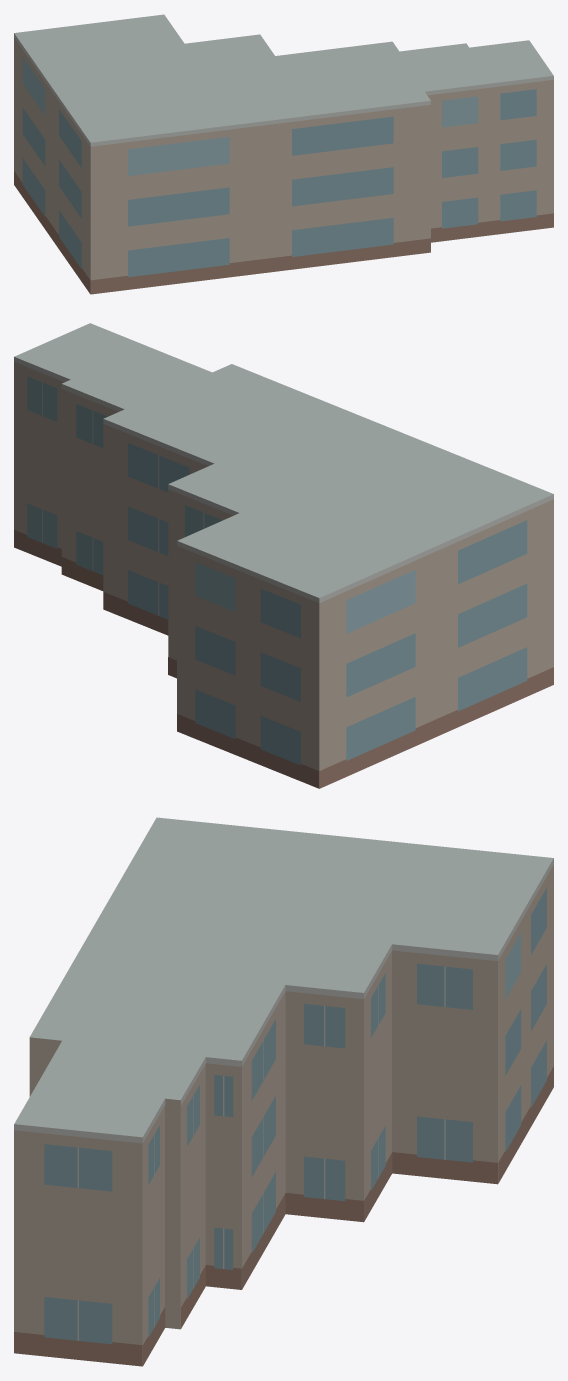
Rendered from survey-upis-32813235.glb.
3 views of the same model, one above another, from view 1: azimuth 30°, elevation 25°; view 2: azimuth 150°, elevation 25°; view 3: azimuth 270°, elevation 25° (orthographic). The views are drawn at different scales.
Visible parts, largest first — view 1: survey-upis-32813235.tmp; view 2: survey-upis-32813235.tmp; view 3: survey-upis-32813235.tmp.
Boxes of the visible parts, x1=… form: survey-upis-32813235.tmp: x1=14, y1=14, x2=553, y2=294; survey-upis-32813235.tmp: x1=14, y1=323, x2=553, y2=788; survey-upis-32813235.tmp: x1=14, y1=817, x2=553, y2=1366.
Size of the model in its own units: 27.41 by 9.15 by 19.54.
